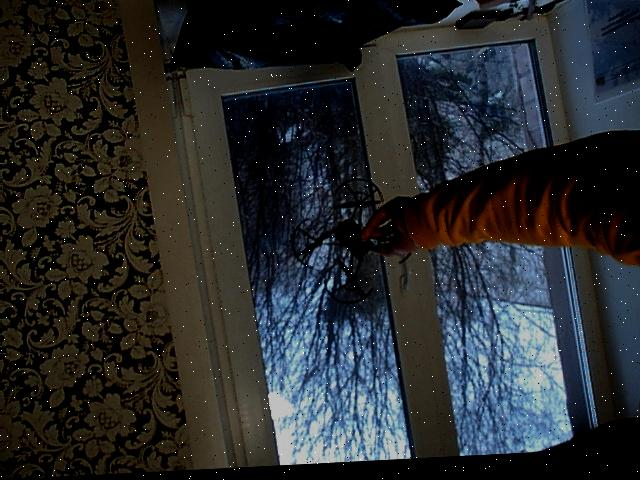drone: (284, 175, 414, 312)
